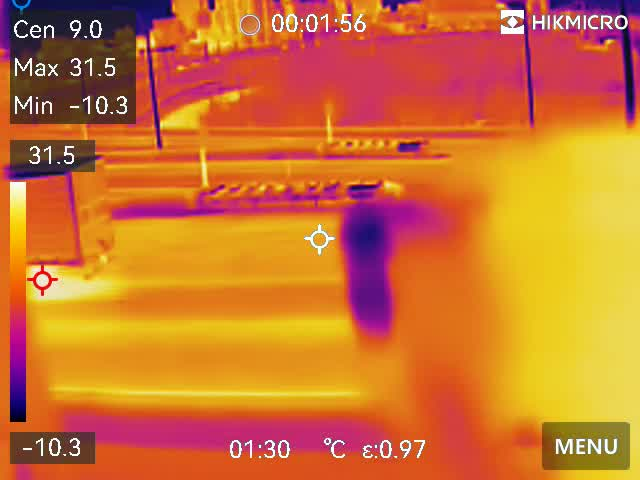heavyTruck: (12, 151, 121, 273)
